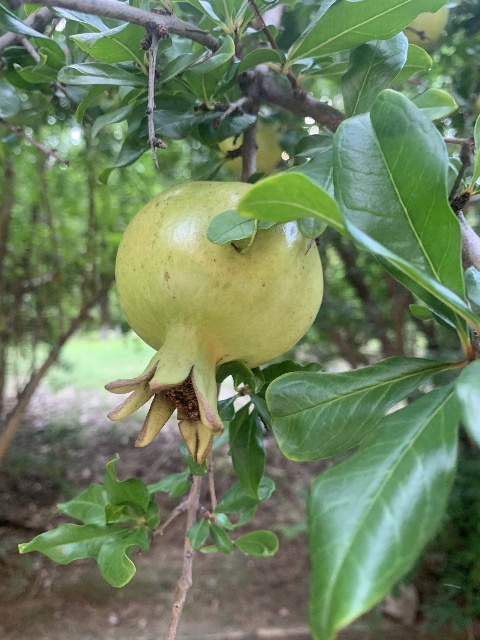mid-growth: (103, 180, 324, 470)
